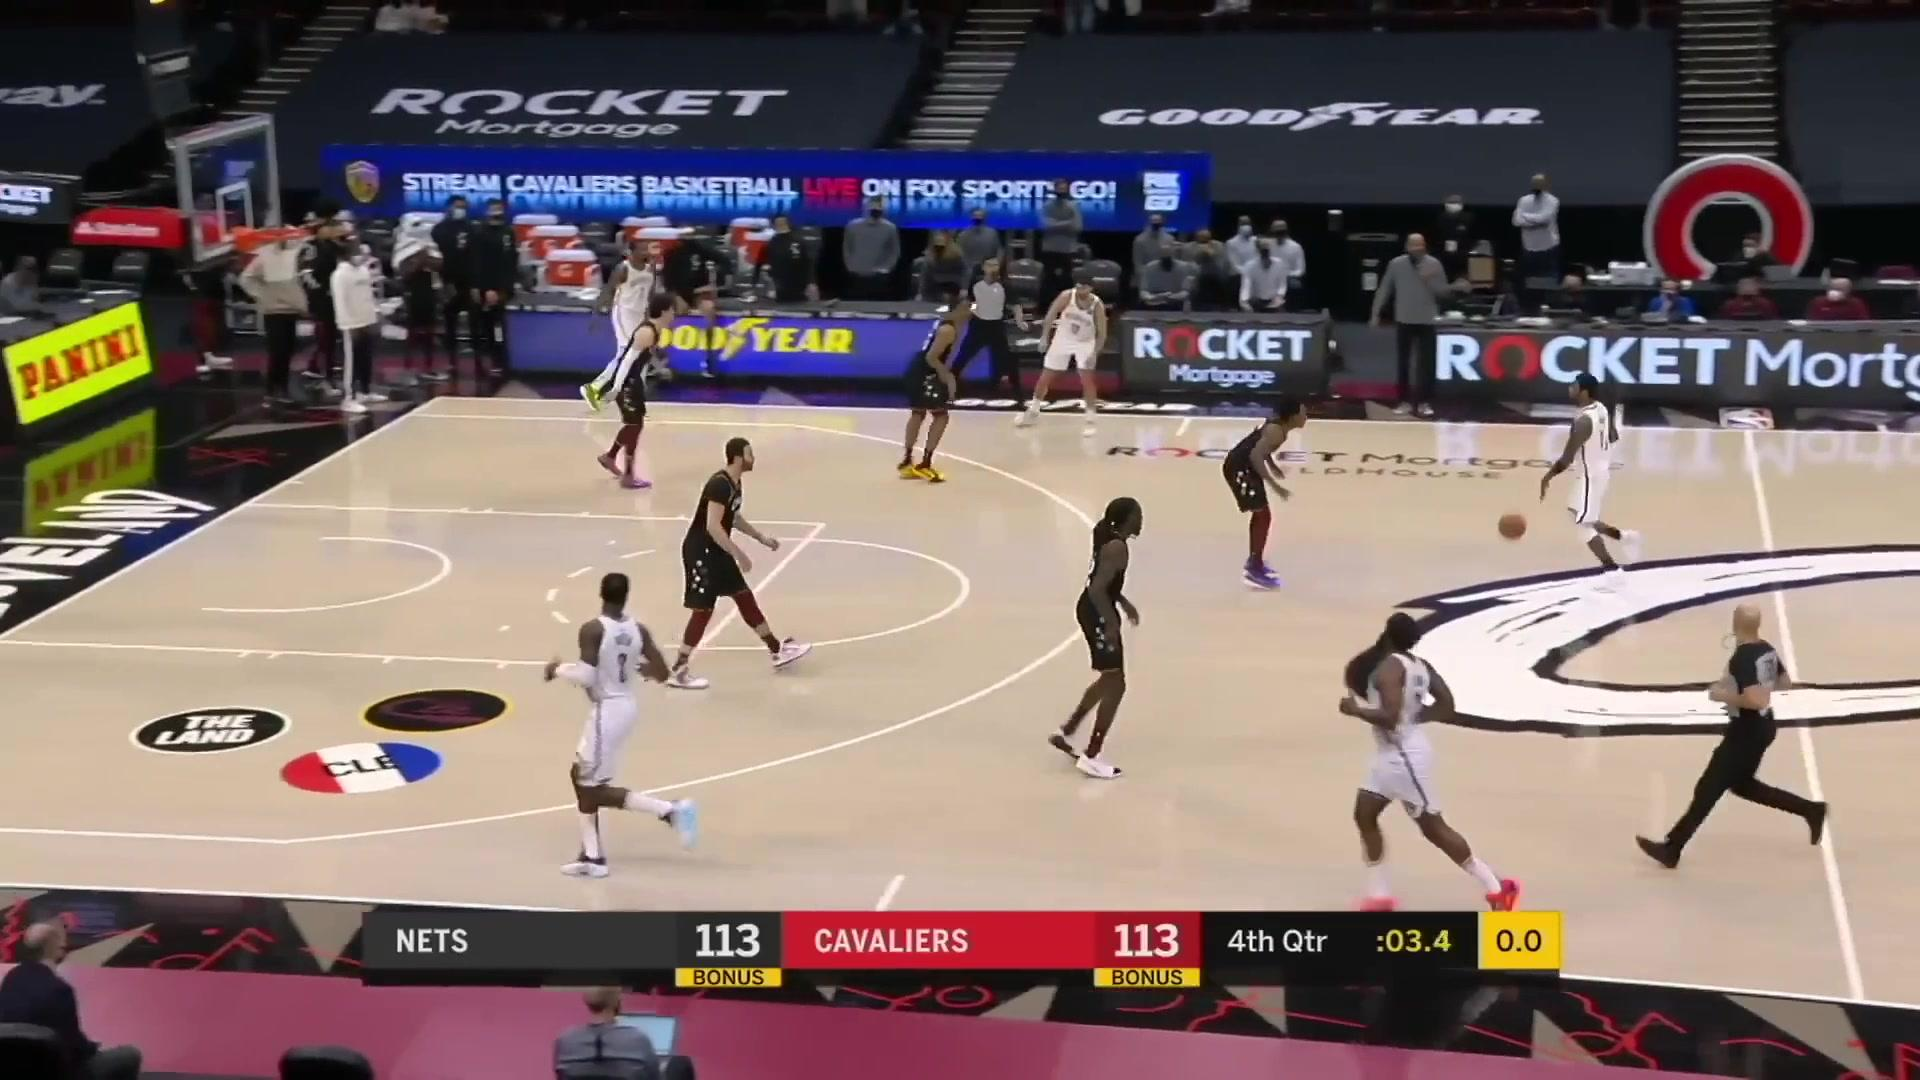no_foul: (556, 227, 691, 490)
